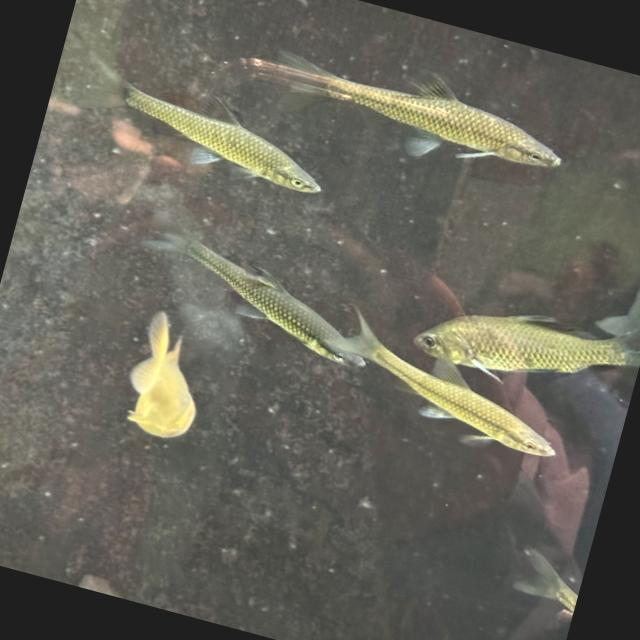Cakil Baligi: (201, 15, 581, 186), (302, 298, 572, 471)
